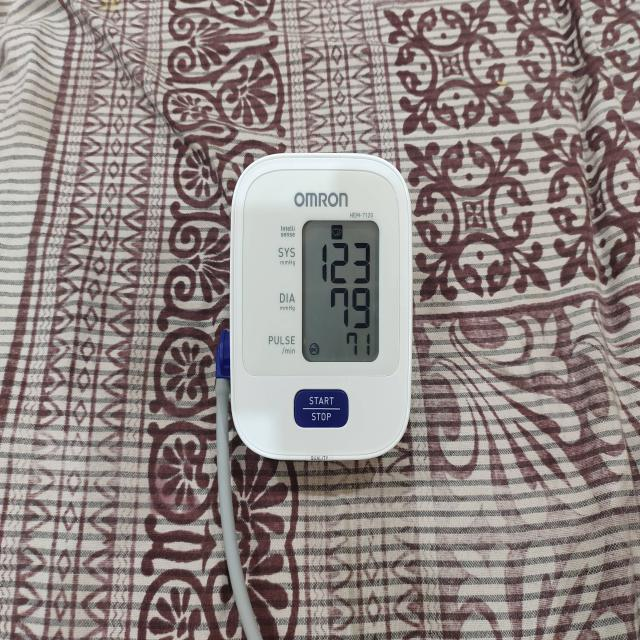bp: (228, 153, 414, 464)
